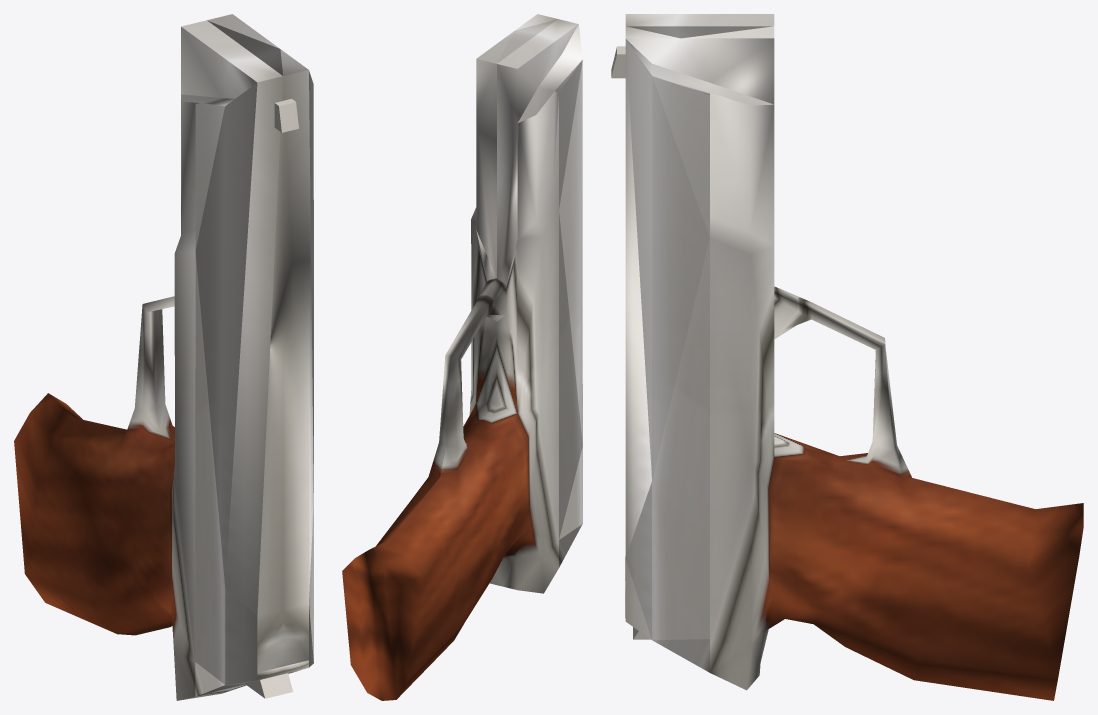
File: HKUSP.fbx
3 renders of one model, left to right at view 1: azimuth 30°, elevation 25°; view 2: azimuth 150°, elevation 25°; view 3: azimuth 270°, elevation 25°, orthographic. The views are drawn at different scales.
Visible parts, largest first — view 1: node_7de4afb5_64dc_429b_9924_69f07a10f78e_mesh0; view 2: node_7de4afb5_64dc_429b_9924_69f07a10f78e_mesh0; view 3: node_7de4afb5_64dc_429b_9924_69f07a10f78e_mesh0.
Boxes of the visible parts, x1,y1,x2,y2 form: node_7de4afb5_64dc_429b_9924_69f07a10f78e_mesh0: (14,14,313,700); node_7de4afb5_64dc_429b_9924_69f07a10f78e_mesh0: (342,14,582,700); node_7de4afb5_64dc_429b_9924_69f07a10f78e_mesh0: (611,14,1083,700).
Bounding box in the file's own units: 0.0199 × 0.1474 × 0.094.
